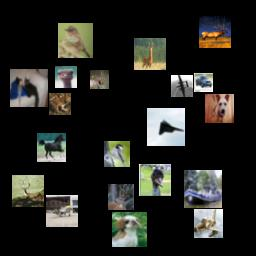airplane: (147, 108, 185, 146), (46, 195, 78, 227), (194, 209, 223, 238), (171, 75, 193, 97)
automobile: (194, 73, 213, 92)
bird: (58, 23, 93, 58), (139, 164, 171, 196), (104, 141, 130, 167), (55, 66, 77, 88)
cat: (10, 69, 48, 107)
deer: (199, 16, 231, 48), (12, 175, 44, 207), (134, 38, 166, 70), (108, 184, 134, 210), (90, 70, 109, 89)
dog: (112, 212, 147, 247), (205, 94, 234, 123)
frog: (49, 93, 71, 115)
ship: (184, 170, 222, 208)
